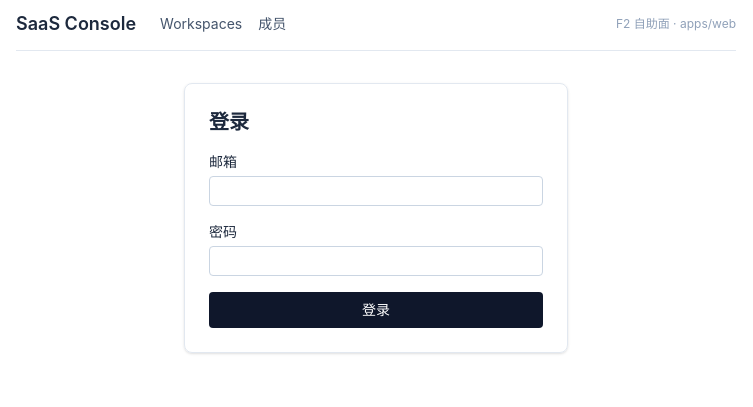
登录页（F0 最小闭环） › 登录失败展示后端 message
The image size is (753, 407).
Type "a@b.c" into the field labelled "邮箱" at (376, 191), box [209,176,543,206]
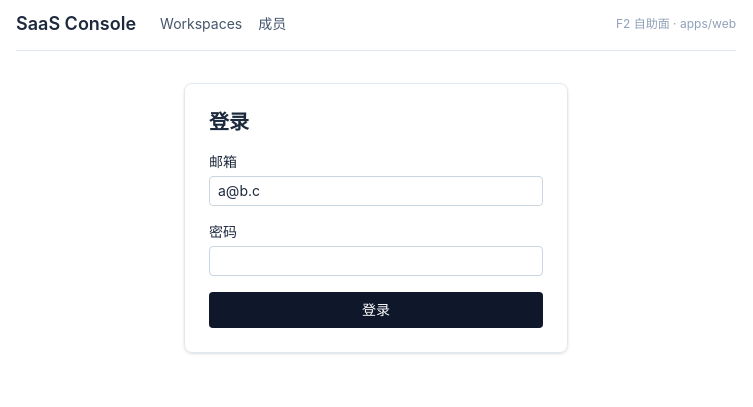
Type "wrong" into the password field labelled "密码" at (376, 261), box [209,246,543,276]
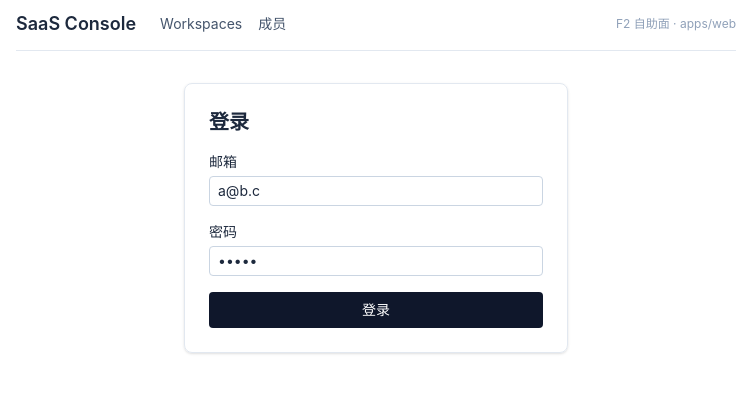
Click the button "登录" at (376, 310), box [209,292,543,328]
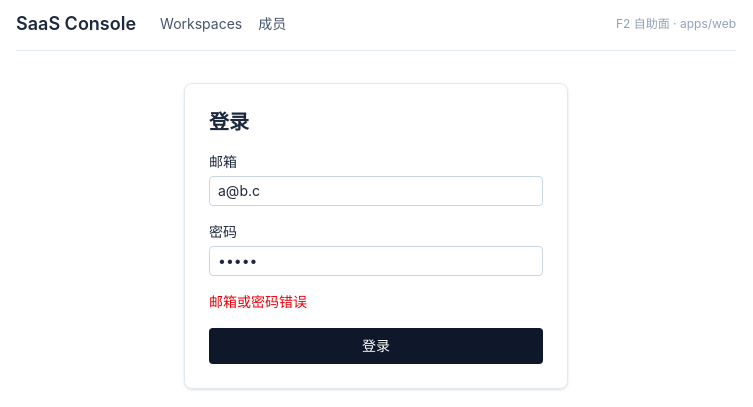
Expected: the text "邮箱或密码错误" is shown, [209,293,307,310]
